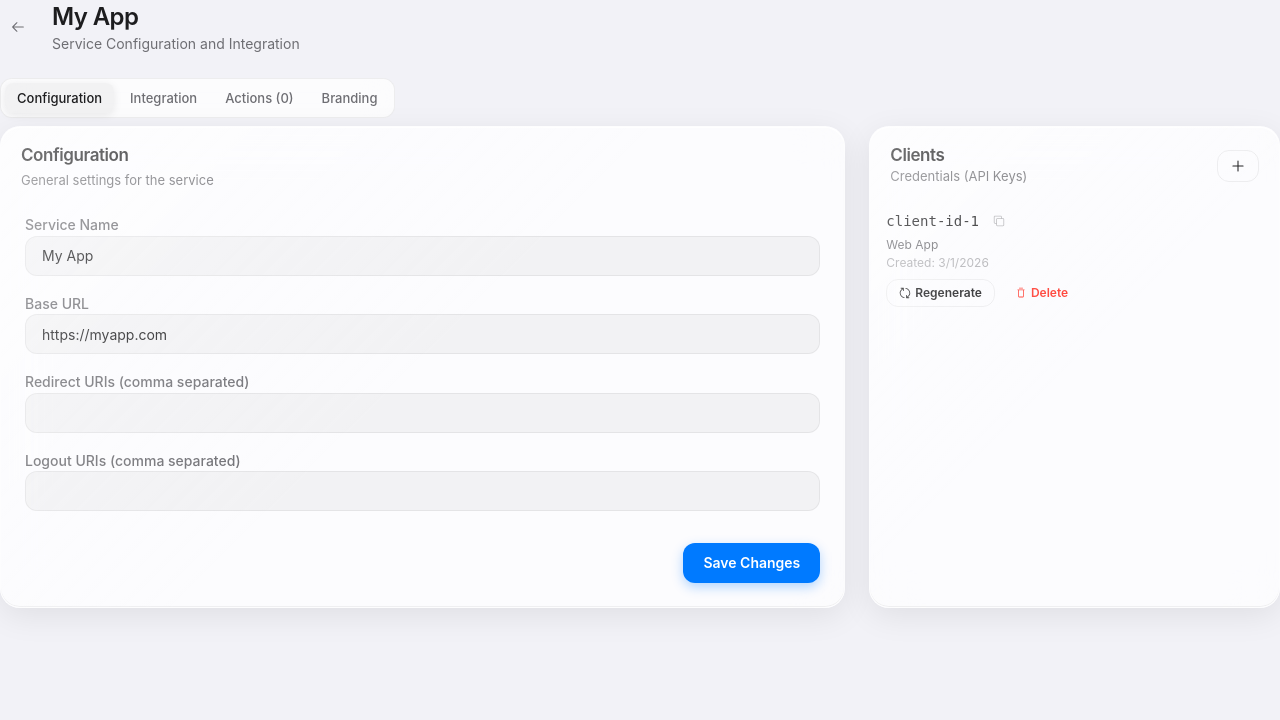
Scenario: Service Detail Page › creates a client through the UI and shows secret dialog
Check: the text "client-id-1" is shown, box [886,212,979,232]
Click the 1st button.
click(1238, 166)  # box [1217,150,1259,182]
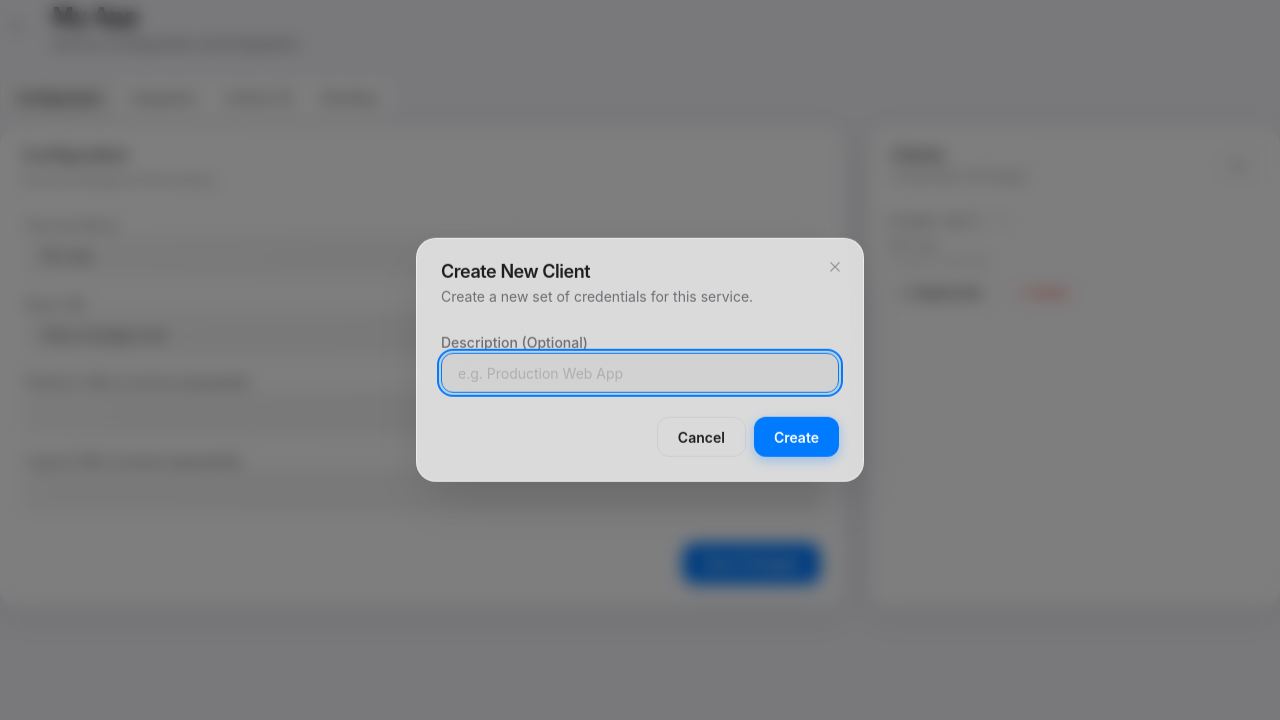
Check: the heading "Create New Client" is shown, box [441,261,590,282]
Note: Fill in the client name
Type "New Client" into the field labelled "Description (Optional)".
click(640, 373); type("New Client")  # box [441,353,839,393]
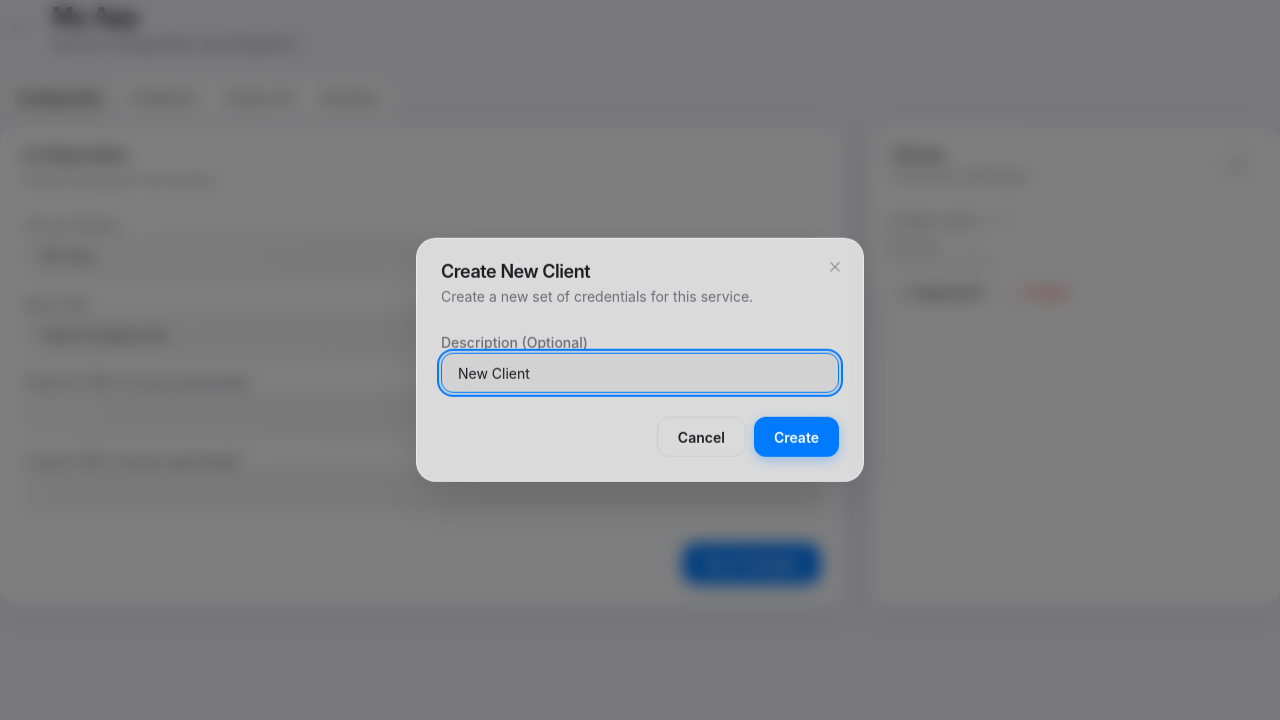
Note: Submit the form
Click the button "Create".
click(796, 437)  # box [754,417,839,457]
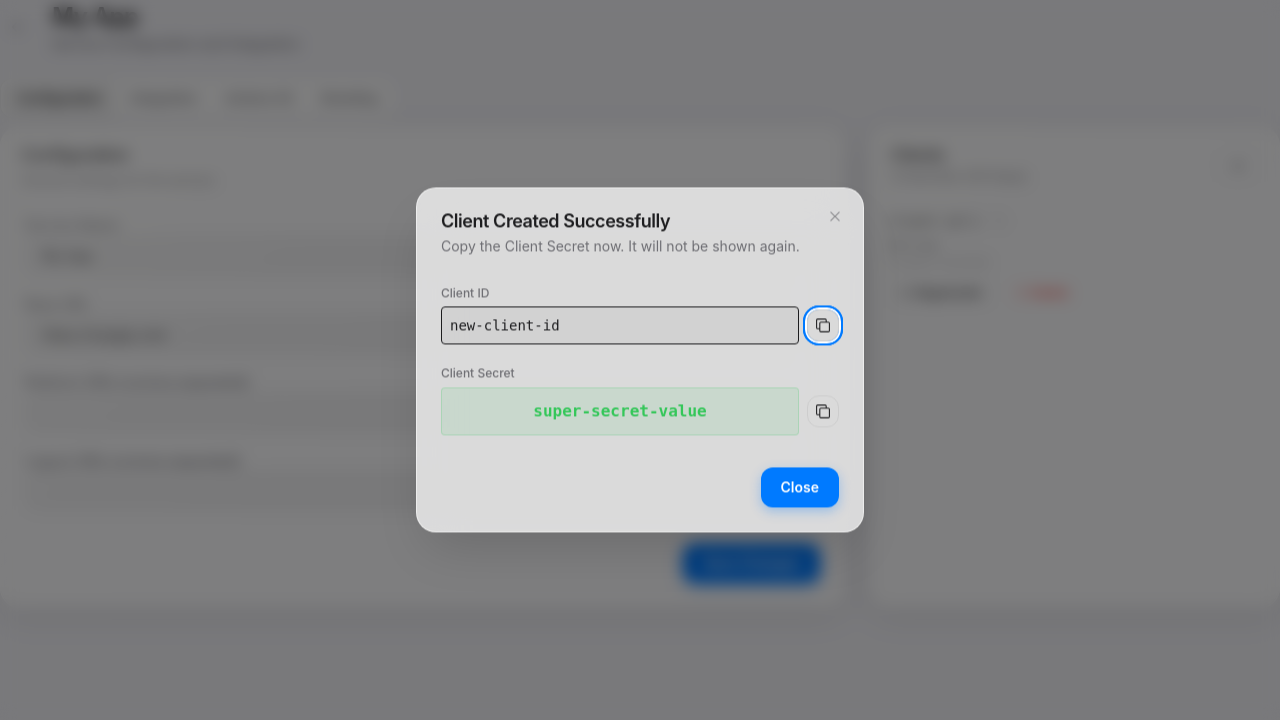
Check: the heading "Client Created Successfully" is shown, box [441,210,670,231]
Check: the text "super-secret-value" is shown, box [441,387,799,436]
Check: the text "new-client-id" is shown, box [441,307,799,345]
